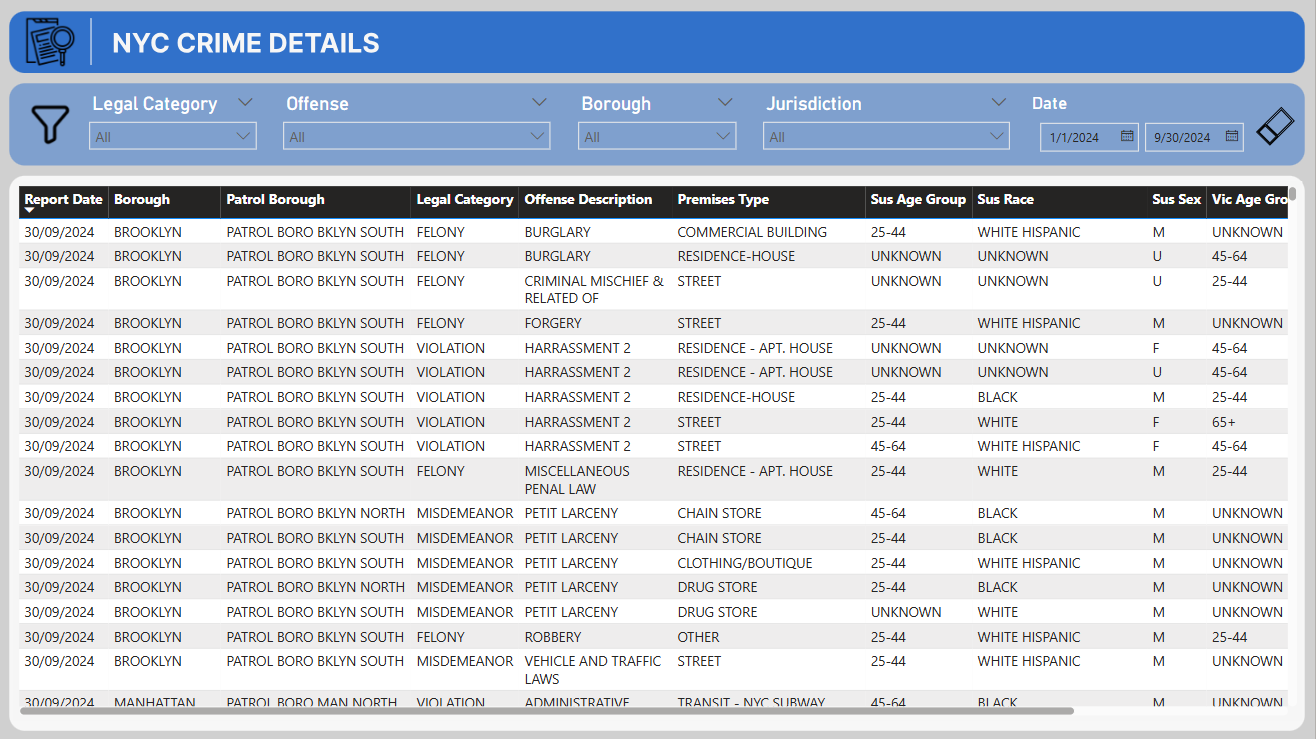

What the dashboard file says about the page in this screenshot:
{"tool":"powerbi","page":{"name":"Crime Details","canvas":[1280,720],"ordinal":1},"visuals":[{"type":"slicer","title":"Jurisdiction Filter","fields":{"Values":["view.jurisdiction_description"]},"box":[524.1,7.2,250,75],"z":0,"group":"g3"},{"type":"image","title":"Logo","box":[79.6,7.8,166,75],"z":0},{"type":"slicer","title":"Offense Filter","fields":{"Values":["view.offense_description"]},"box":[245.8,6.5,270,75],"z":1000,"group":"g3"},{"type":"tableEx","title":"Crimes Details Table","fields":{"Values":["view.report_date","view.borough_name","view.patrol_borough","view.legal_category","view.offense_description","view.premises_type_description","view.suspect_age_group","view.suspect_race","view.suspect_sex","view.victim_age_group","view.victim_race","view.victim_sex"]},"box":[79.2,94.4,1190.3,613.9],"z":1000},{"type":"shape","title":"Bg","box":[0,0,65,720.8],"z":2000},{"type":"slicer","title":"Borough Filter","fields":{"Values":["view.borough_name"]},"box":[784.3,7,194.9,75.5],"z":2000,"group":"g3"},{"type":"slicer","title":"Report Date Filter","fields":{"Values":["view.report_date"]},"box":[989.3,7,280,75.5],"z":3000,"group":"g3"},{"type":"image","box":[0,186.1,65.3,54.2],"z":3000,"group":"g2"},{"type":"image","box":[0,416.7,65.3,55.6],"z":4000,"group":"g1"},{"type":"image","title":"Icon - Crimes Details","box":[0,301.2,65,55],"z":5000},{"type":"actionButton","box":[0,185.7,65.7,54.3],"z":6000,"group":"g2"},{"type":"group","id":"g1","title":"Location Button","box":[0,416.7,65.7,56.2],"z":6250},{"type":"actionButton","box":[0,417.2,65.7,55.7],"z":7000,"group":"g1"},{"type":"group","id":"g2","title":"Home Button","box":[0,185.7,65.7,54.6],"z":7500},{"type":"group","id":"g3","title":"Filters","box":[245.8,6.5,1023.5,75.9],"z":8000}]}

Visuals, with their boxes in screenshot pixels (x1, y1, x2, y2), scaled from the page's 1280x720 canvas onto the 1316x739 screenshot:
"Jurisdiction Filter" slicer: bbox=(539, 7, 796, 84)
"Logo" image: bbox=(82, 8, 253, 85)
"Offense Filter" slicer: bbox=(253, 7, 530, 84)
"Crimes Details Table" tableEx: bbox=(81, 97, 1305, 727)
"Bg" shape: bbox=(0, 0, 67, 738)
"Borough Filter" slicer: bbox=(806, 7, 1007, 85)
"Report Date Filter" slicer: bbox=(1017, 7, 1305, 85)
image: bbox=(0, 191, 67, 247)
image: bbox=(0, 428, 67, 485)
"Icon - Crimes Details" image: bbox=(0, 309, 67, 366)
actionButton: bbox=(0, 191, 68, 246)
"Location Button" group: bbox=(0, 428, 68, 485)
actionButton: bbox=(0, 428, 68, 485)
"Home Button" group: bbox=(0, 191, 68, 247)
"Filters" group: bbox=(253, 7, 1305, 85)
